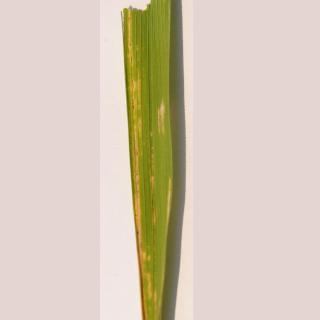Hawar-Daun: (112, 9, 201, 320)
